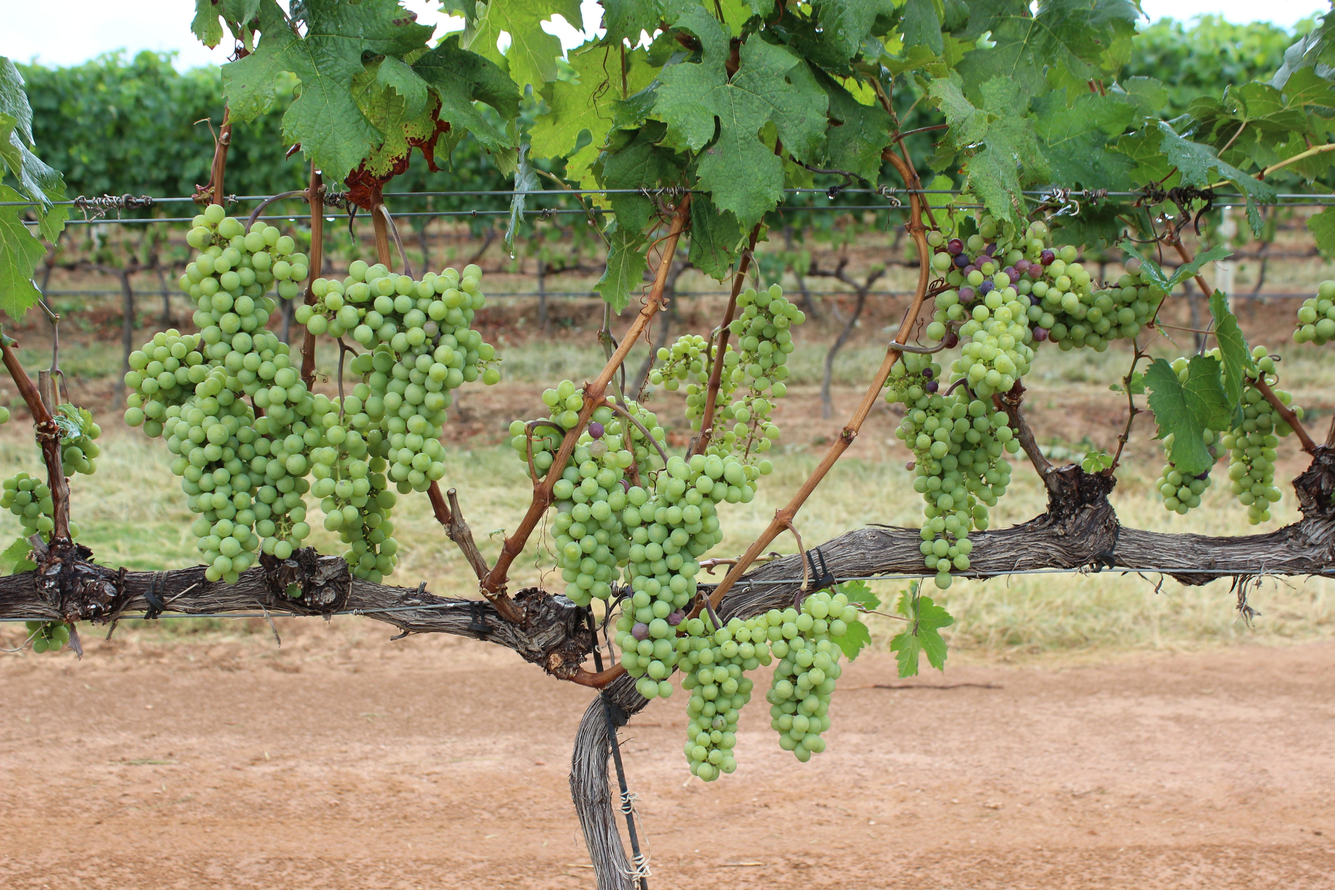leaf: (654, 7, 827, 228), (223, 0, 431, 179), (929, 77, 1050, 226), (956, 0, 1139, 97), (595, 121, 681, 312), (530, 46, 642, 182), (1159, 121, 1276, 236), (0, 56, 67, 241), (413, 34, 519, 150), (461, 0, 582, 89), (1145, 355, 1233, 475), (351, 57, 437, 176), (1033, 91, 1135, 191), (602, 122, 680, 236), (817, 72, 891, 182), (1209, 290, 1255, 424), (1119, 241, 1232, 293), (891, 589, 953, 677), (0, 206, 45, 320), (689, 193, 747, 280), (594, 221, 647, 313), (813, 0, 897, 58), (505, 145, 542, 251), (191, 0, 261, 48), (1052, 201, 1124, 247), (376, 56, 428, 118), (599, 0, 665, 46), (900, 0, 944, 55), (1118, 76, 1169, 121), (909, 0, 941, 52), (832, 619, 870, 661), (624, 49, 657, 95), (1306, 206, 1335, 255), (0, 537, 36, 574), (836, 580, 880, 610), (0, 184, 24, 201), (645, 100, 651, 111), (905, 10, 910, 21), (905, 36, 910, 43), (432, 100, 435, 106), (423, 83, 425, 92), (400, 62, 401, 64), (878, 10, 879, 11), (414, 75, 415, 76), (424, 100, 424, 102), (419, 79, 420, 79)
